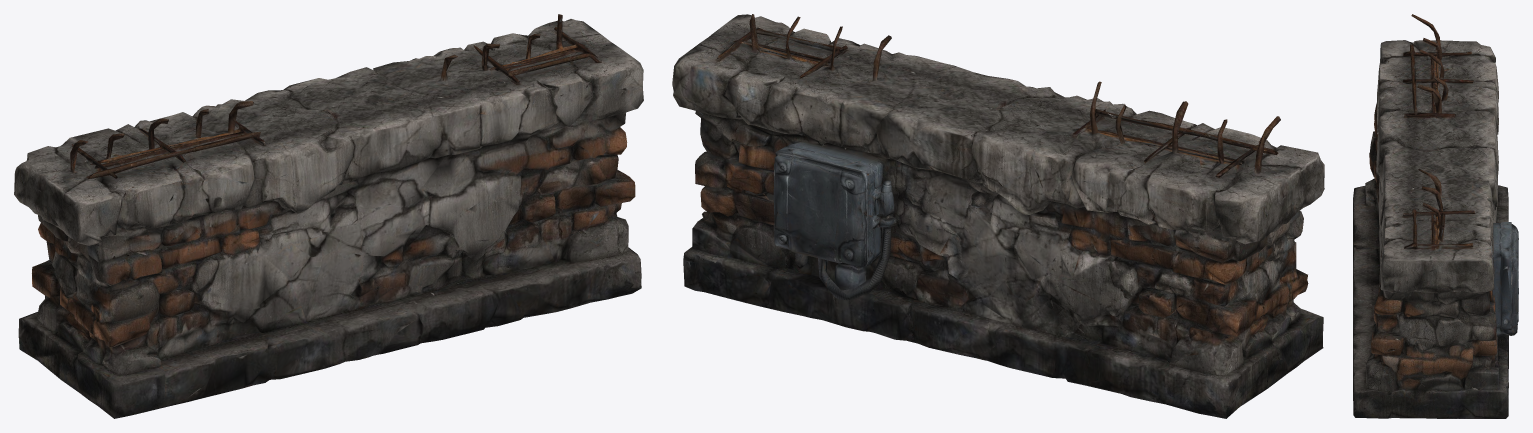
Rendered from rebar_wall.glb.
3 renders of one model, left to right at view 1: azimuth 30°, elevation 25°; view 2: azimuth 150°, elevation 25°; view 3: azimuth 270°, elevation 25°, orthographic. The views are drawn at different scales.
Visible parts, largest first — view 1: rebar_wall; view 2: rebar_wall; view 3: rebar_wall.
Boxes of the visible parts, left/top/right/bottom form: rebar_wall: left=14, top=14, right=643, bottom=418; rebar_wall: left=672, top=14, right=1324, bottom=418; rebar_wall: left=1353, top=14, right=1518, bottom=418.
Bounding box in the file's own units: 1.9 × 0.8046 × 0.6.
Materials: 1 (1 with a texture image).
